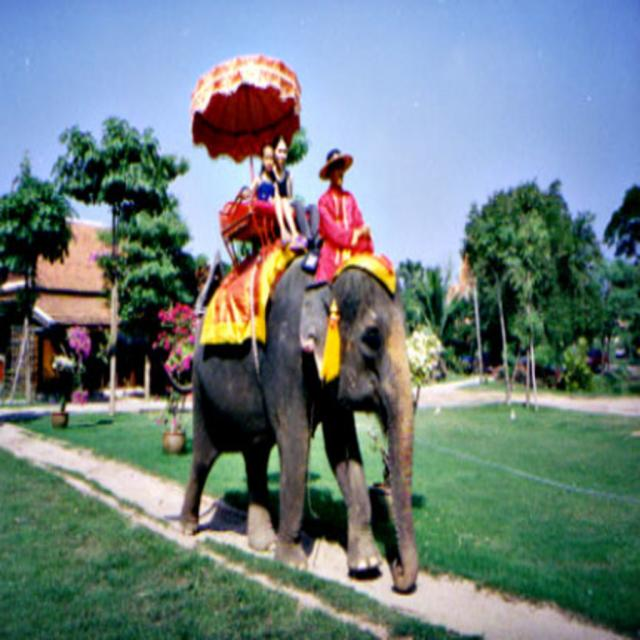elephant: (176, 242, 418, 595)
